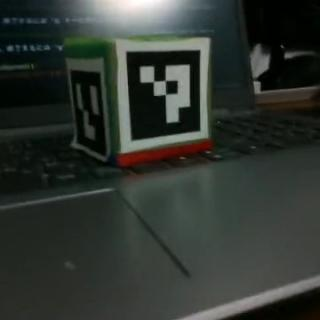armor: (117, 38, 207, 150), (68, 58, 109, 160)
robot: (63, 33, 211, 169)
